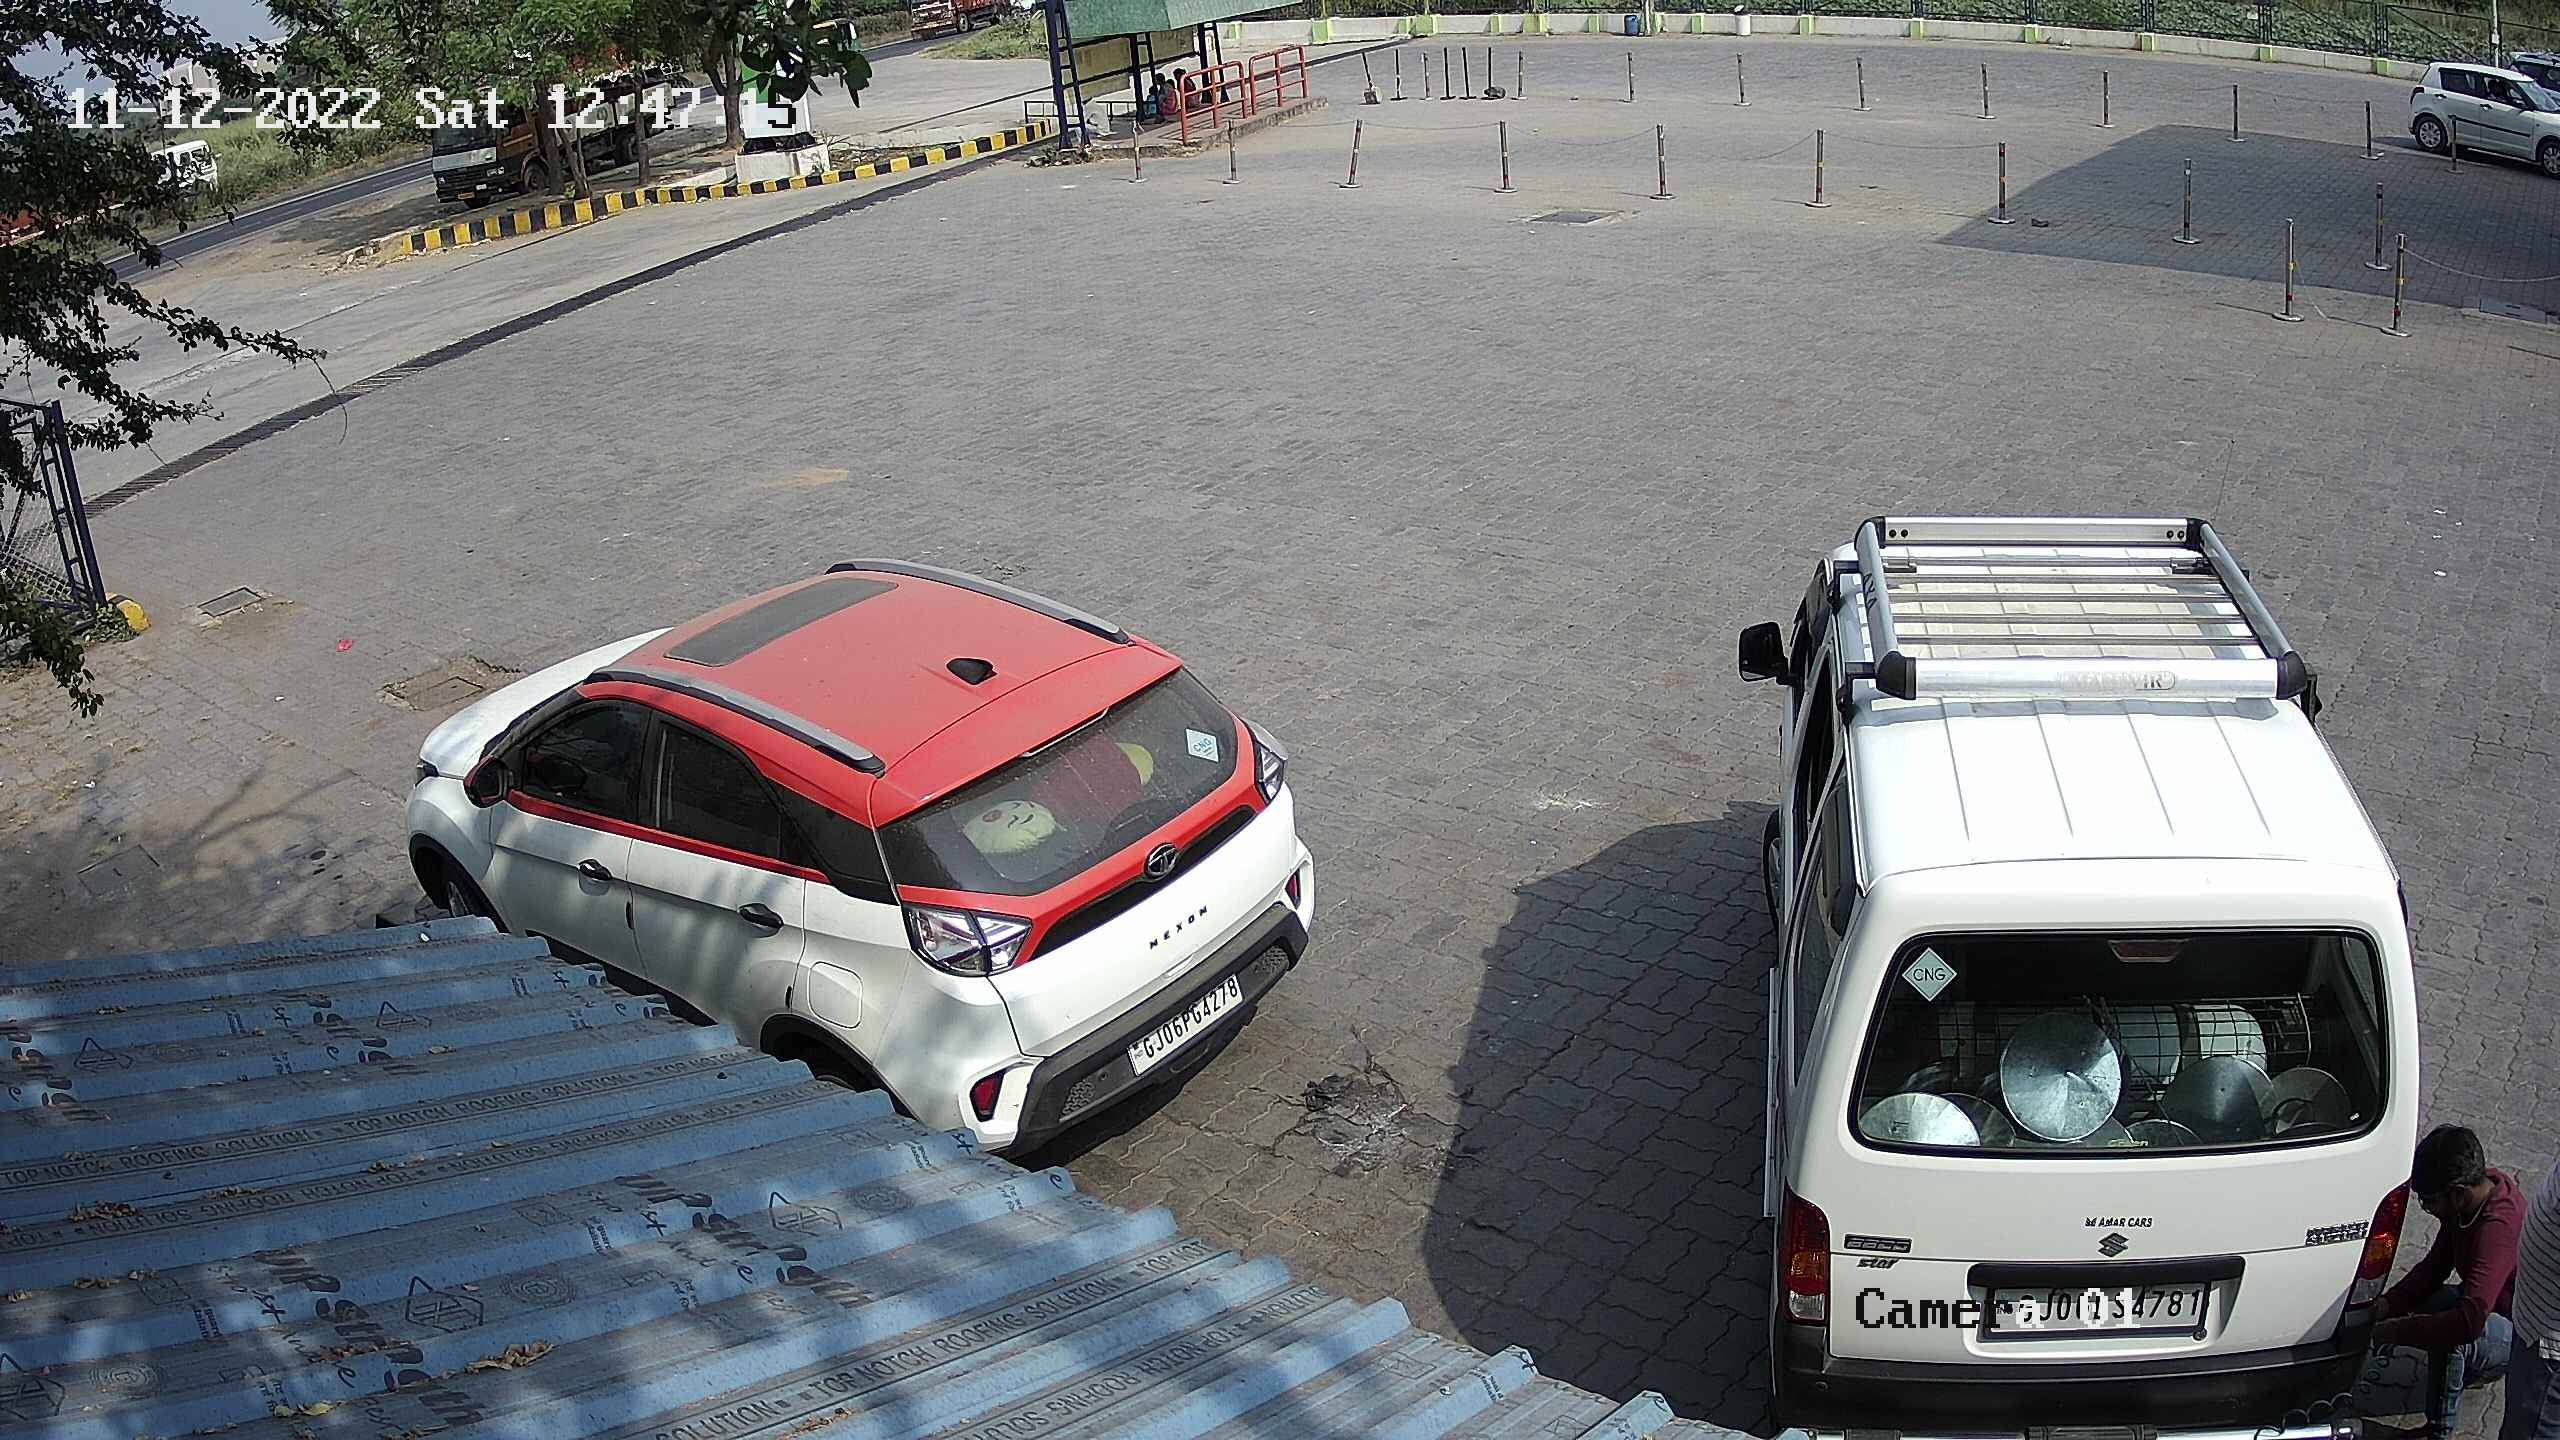Car: (1720, 499, 2453, 1436), (390, 543, 1338, 1173), (2391, 40, 2560, 188)
HMV: (2, 128, 234, 264), (411, 74, 564, 207)
